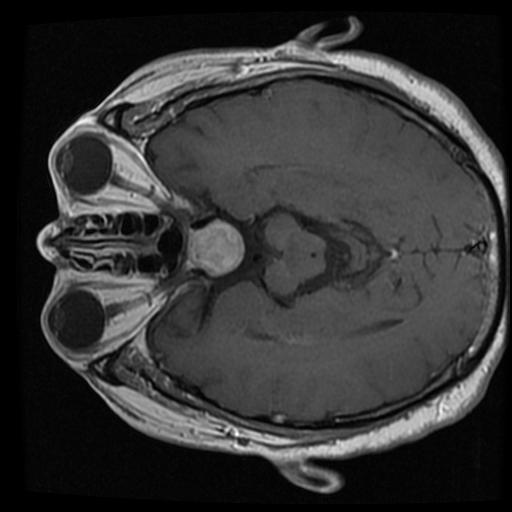pituitary tumour: (184, 222, 243, 276)
